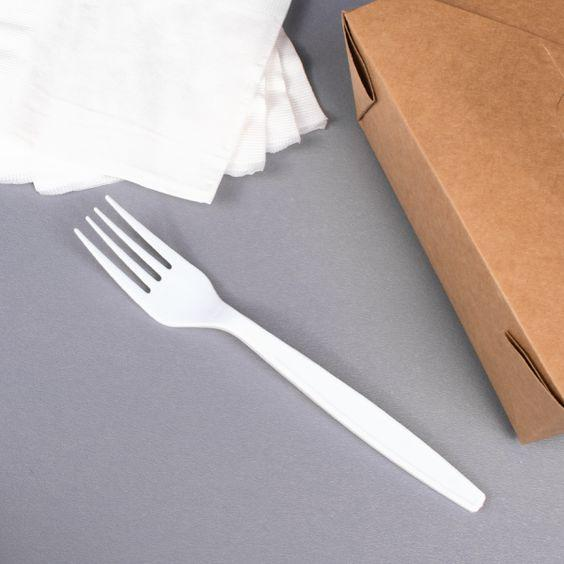PS: (0, 157, 564, 564)
